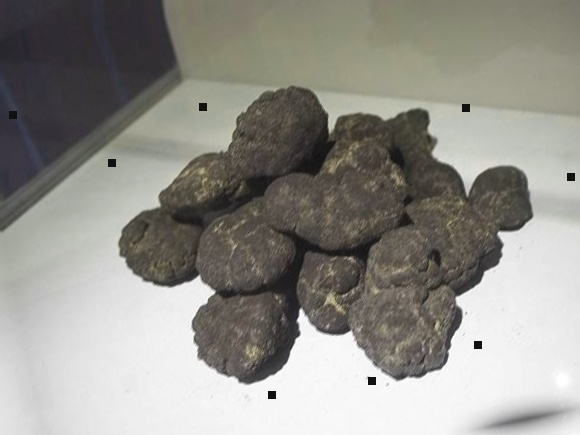halobolite: (355, 240, 459, 376), (280, 145, 409, 242), (222, 75, 327, 192), (187, 291, 297, 378), (194, 215, 294, 289), (112, 201, 193, 283), (295, 255, 369, 337), (153, 150, 249, 213), (423, 198, 489, 287), (471, 161, 526, 230)
